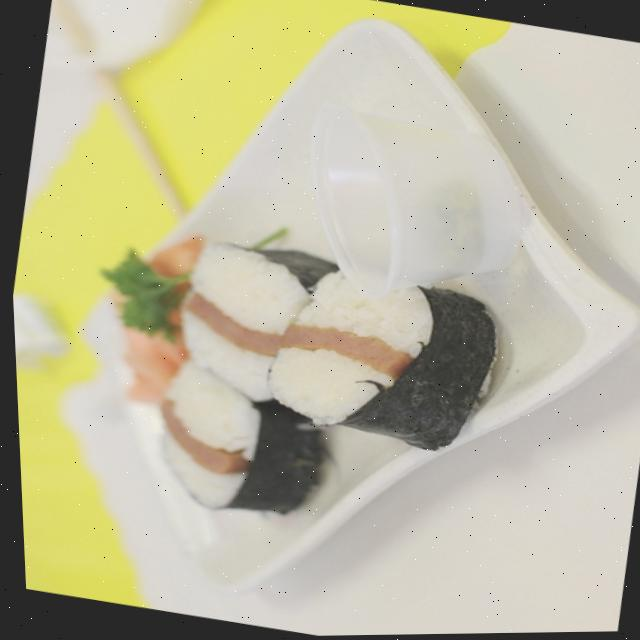寿司卷物: (63, 213, 524, 570)
